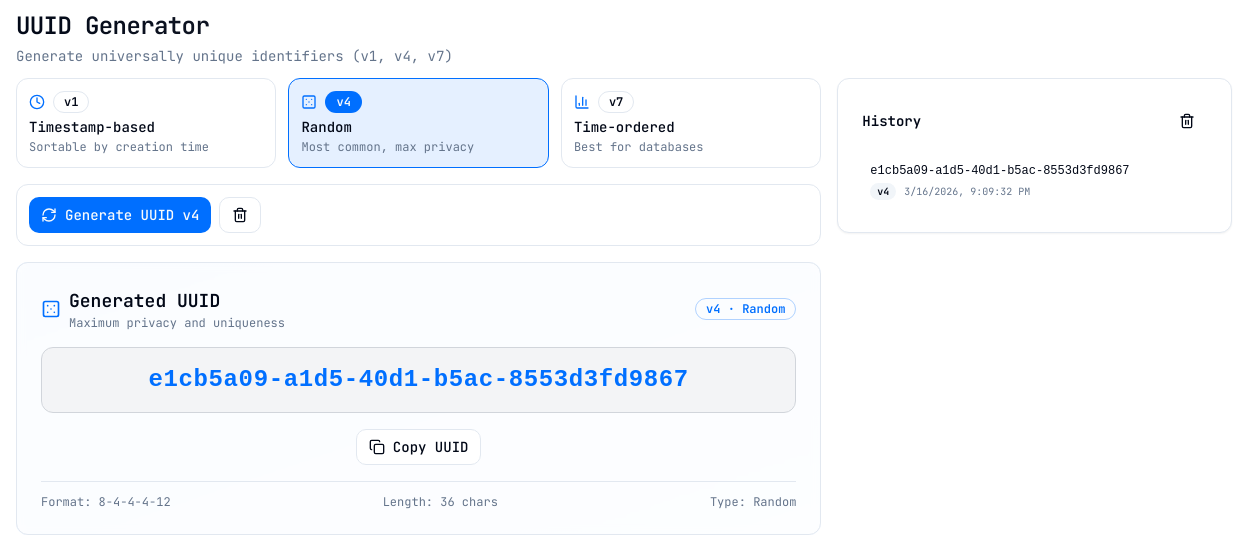
it: UUIDPage › version selection › switches to v1 (Time-based)
The image size is (1249, 552).
What coordinates should you click on to do the following:
click the button with aria-label "Select UUID version 1"
I would click on:
 (146, 123)
Its box is [16,78,276,168].
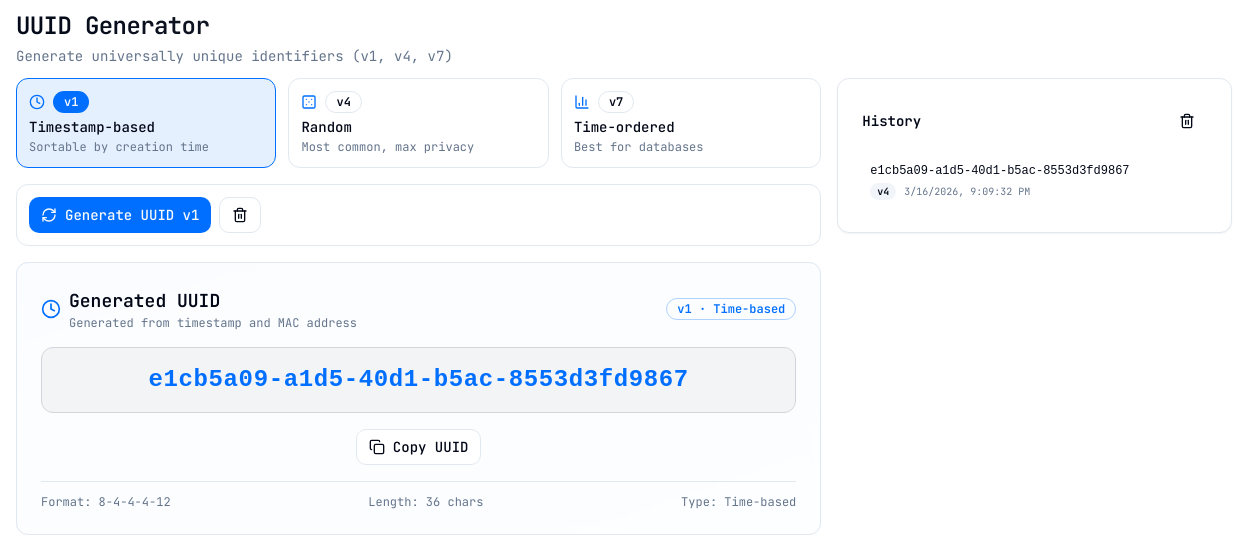
Now the text "Type: Time-based" is shown, box [681,494,796,510]
